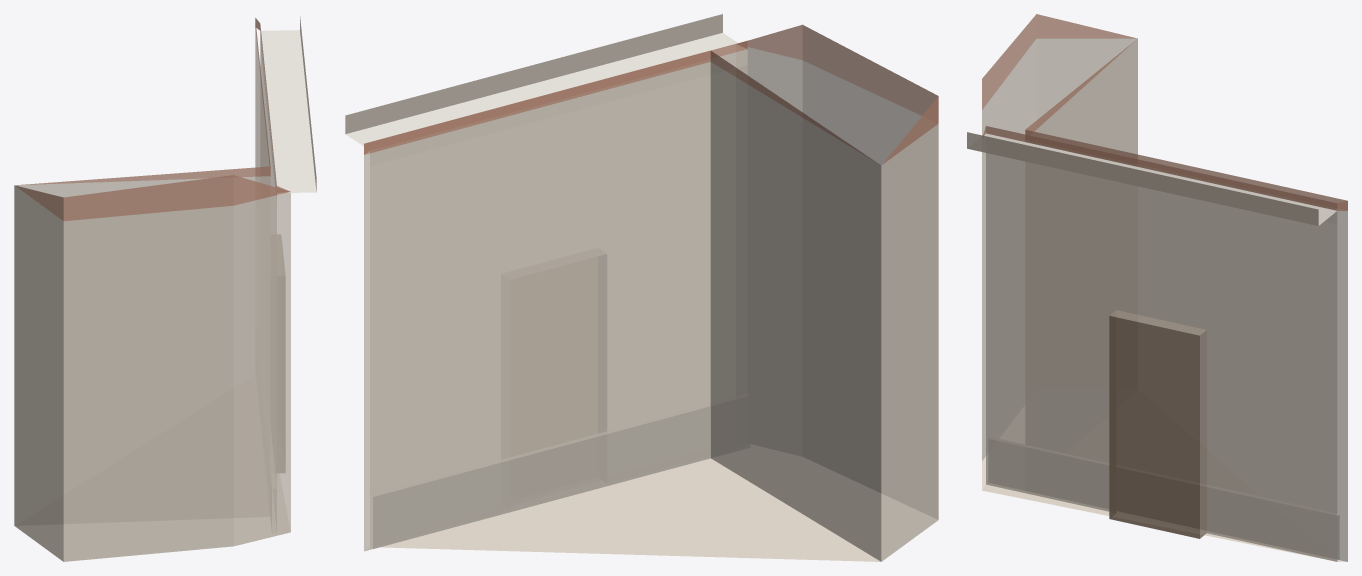
The model's file is INT-N3.glb.
3 views of the same model, side by side, from view 1: azimuth 30°, elevation 25°; view 2: azimuth 150°, elevation 25°; view 3: azimuth 270°, elevation 25° (orthographic). The views are drawn at different scales.
Parts seen in each view (by area): view 1: INT-N3; view 2: INT-N3; view 3: INT-N3.
Part boxes in pixels (x1,y1,x2,y2): INT-N3: [14, 16, 316, 561]; INT-N3: [345, 14, 938, 561]; INT-N3: [967, 14, 1347, 561].
Size of the model in its own units: 4.35 by 4.14 by 3.74.
